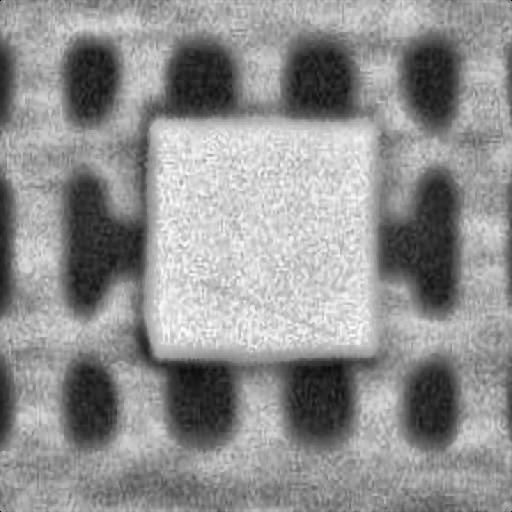DIE_CRACK: (300, 186, 496, 221)
